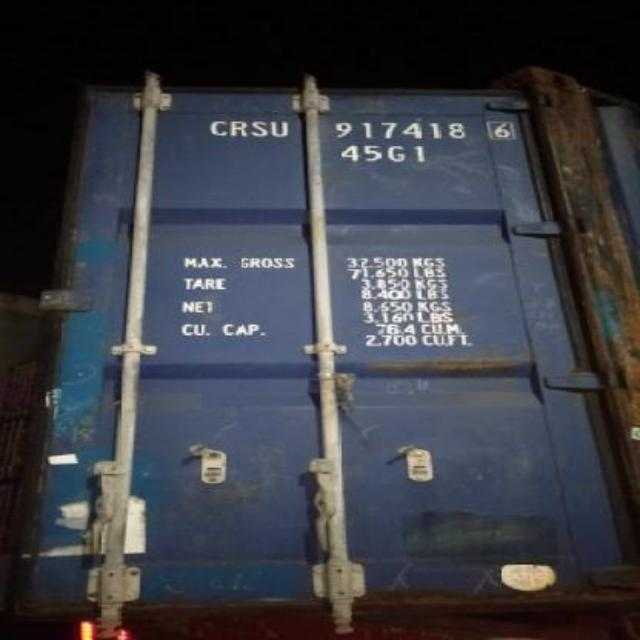1: (358, 120, 378, 138), (426, 121, 446, 139)
4: (400, 120, 426, 140)
6: (490, 121, 514, 137)
7: (381, 120, 402, 140)
8: (444, 120, 470, 136)
9: (328, 120, 358, 136)
C: (206, 118, 230, 138)
R: (228, 119, 252, 137)
S: (250, 118, 270, 138)
U: (270, 119, 292, 137)
